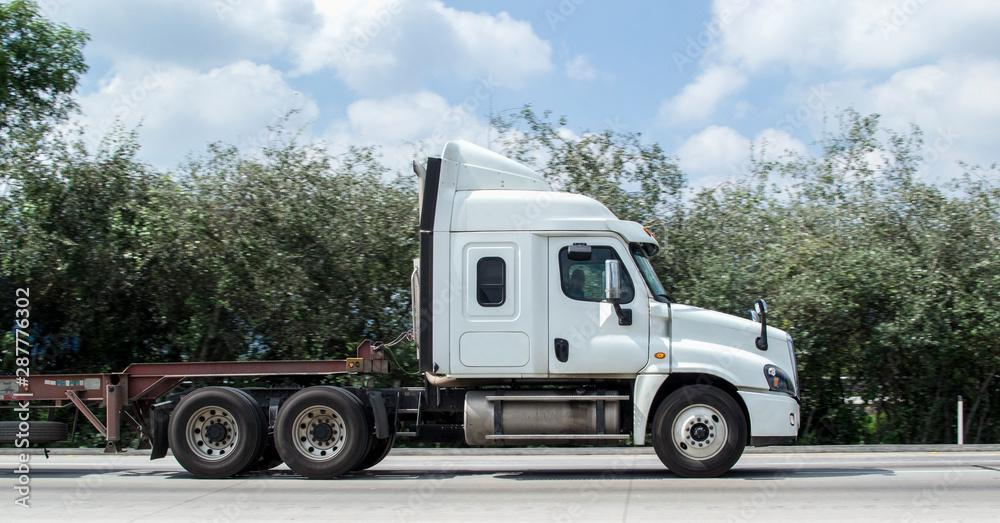truck: (131, 130, 823, 476)
